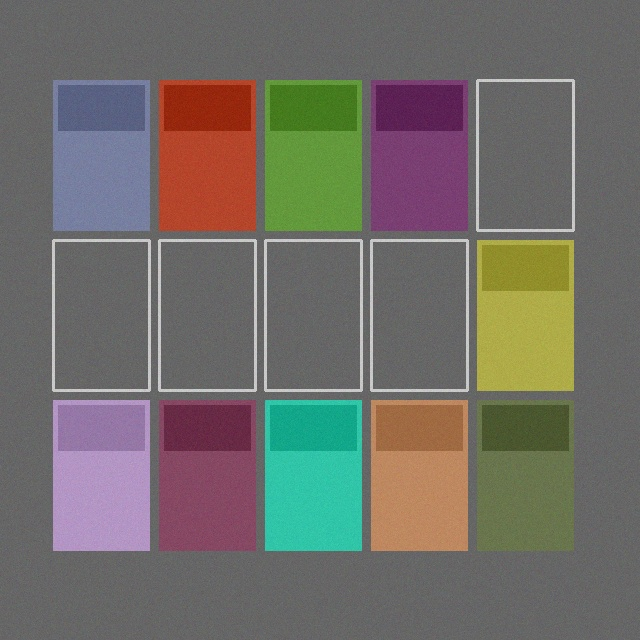space-empty: (477, 80, 573, 230), (53, 240, 149, 390), (159, 240, 255, 390), (265, 240, 361, 390), (371, 240, 467, 390)
space-occupied: (53, 80, 149, 230), (159, 80, 255, 230), (265, 80, 361, 230), (371, 80, 467, 230), (477, 240, 573, 390), (53, 400, 149, 550), (159, 400, 255, 550), (265, 400, 361, 550), (371, 400, 467, 550), (477, 400, 573, 550)
